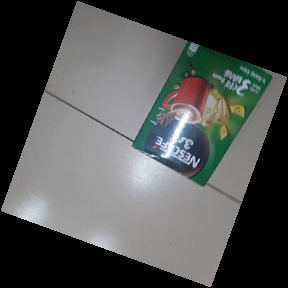Nes Rang: (130, 24, 273, 189)
